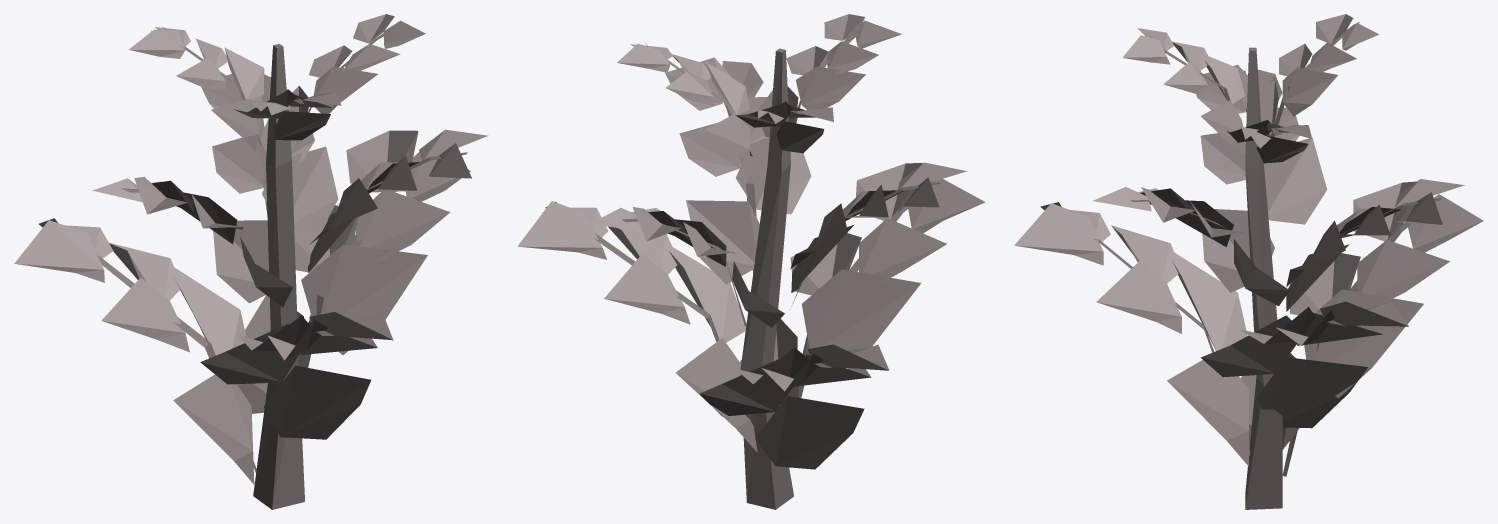
The picture shows the model from 3 angles, left to right: view 1: azimuth 30°, elevation 25°; view 2: azimuth 150°, elevation 25°; view 3: azimuth 270°, elevation 25°; orthographic projection. The views are drawn at different scales.
Bounding box in the file's own units: 123 × 133 × 126.
1 material, 1 textured.
